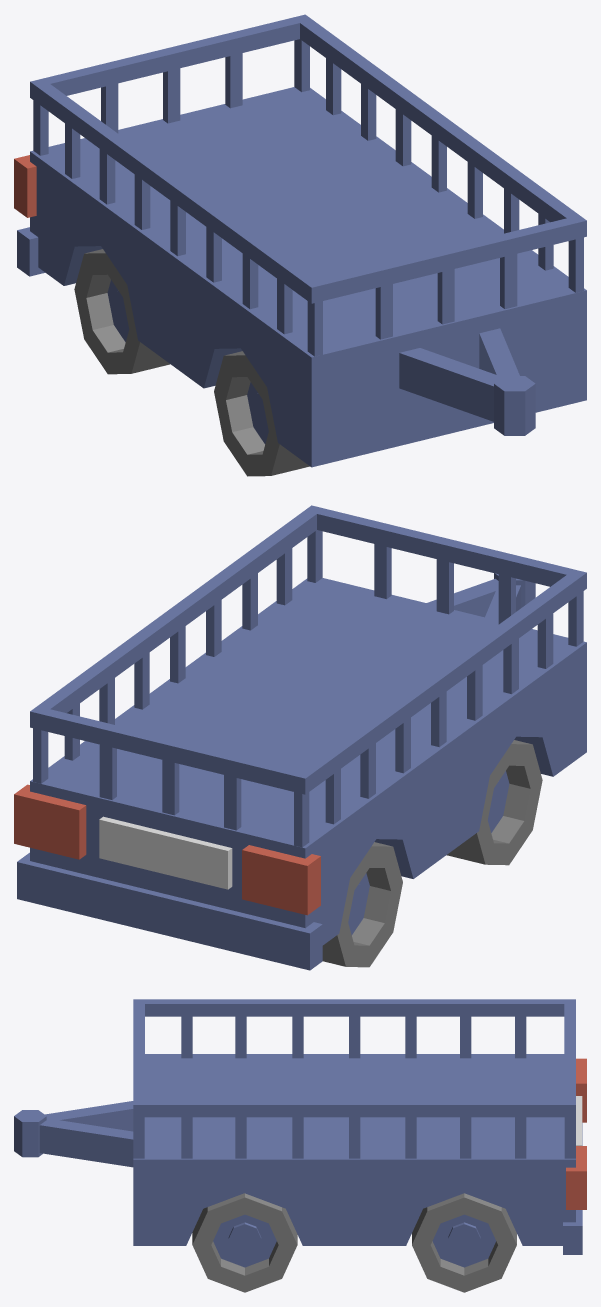
The model's file is Trailer.fbx.
3 views of the same model, one above another, from view 1: azimuth 30°, elevation 25°; view 2: azimuth 150°, elevation 25°; view 3: azimuth 270°, elevation 25° (orthographic). The views are drawn at different scales.
Parts seen in each view (by area): view 1: Trailer, Wheels front, Wheels rear; view 2: Trailer, Wheels front, Wheels rear; view 3: Trailer, Wheels front, Wheels rear.
Boxes of the visible parts, bbox=[...] form: Trailer: bbox=[14, 14, 586, 467]; Wheels front: bbox=[214, 351, 309, 476]; Wheels rear: bbox=[74, 249, 169, 374]; Trailer: bbox=[14, 505, 586, 970]; Wheels front: bbox=[446, 740, 542, 865]; Wheels rear: bbox=[322, 842, 402, 967]; Trailer: bbox=[14, 999, 586, 1254]; Wheels front: bbox=[192, 1193, 297, 1292]; Wheels rear: bbox=[412, 1193, 516, 1292].
Bounding box in the file's own units: 241 × 190 × 518.
